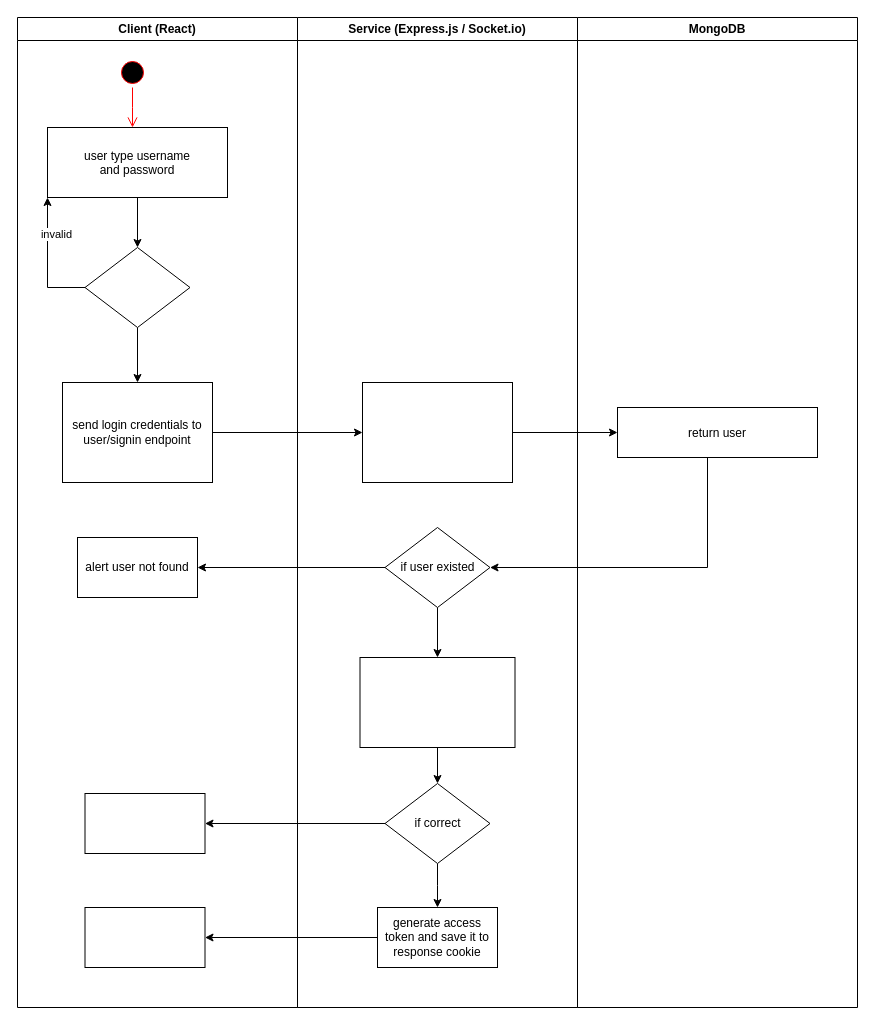
Image size: 875x1025. Some labels were removed from this diagram. The shapes that lost their labels are listed below. From the top down, each one's centre as x and y in pixels, then its label:
At [137,287]: "input validation".
At [437,432]: "get user with username from database".
At [437,702]: "compare input password with hash password from return user".
At [144,823]: "alert login fail".
At [144,937]: "redirect to home page".
